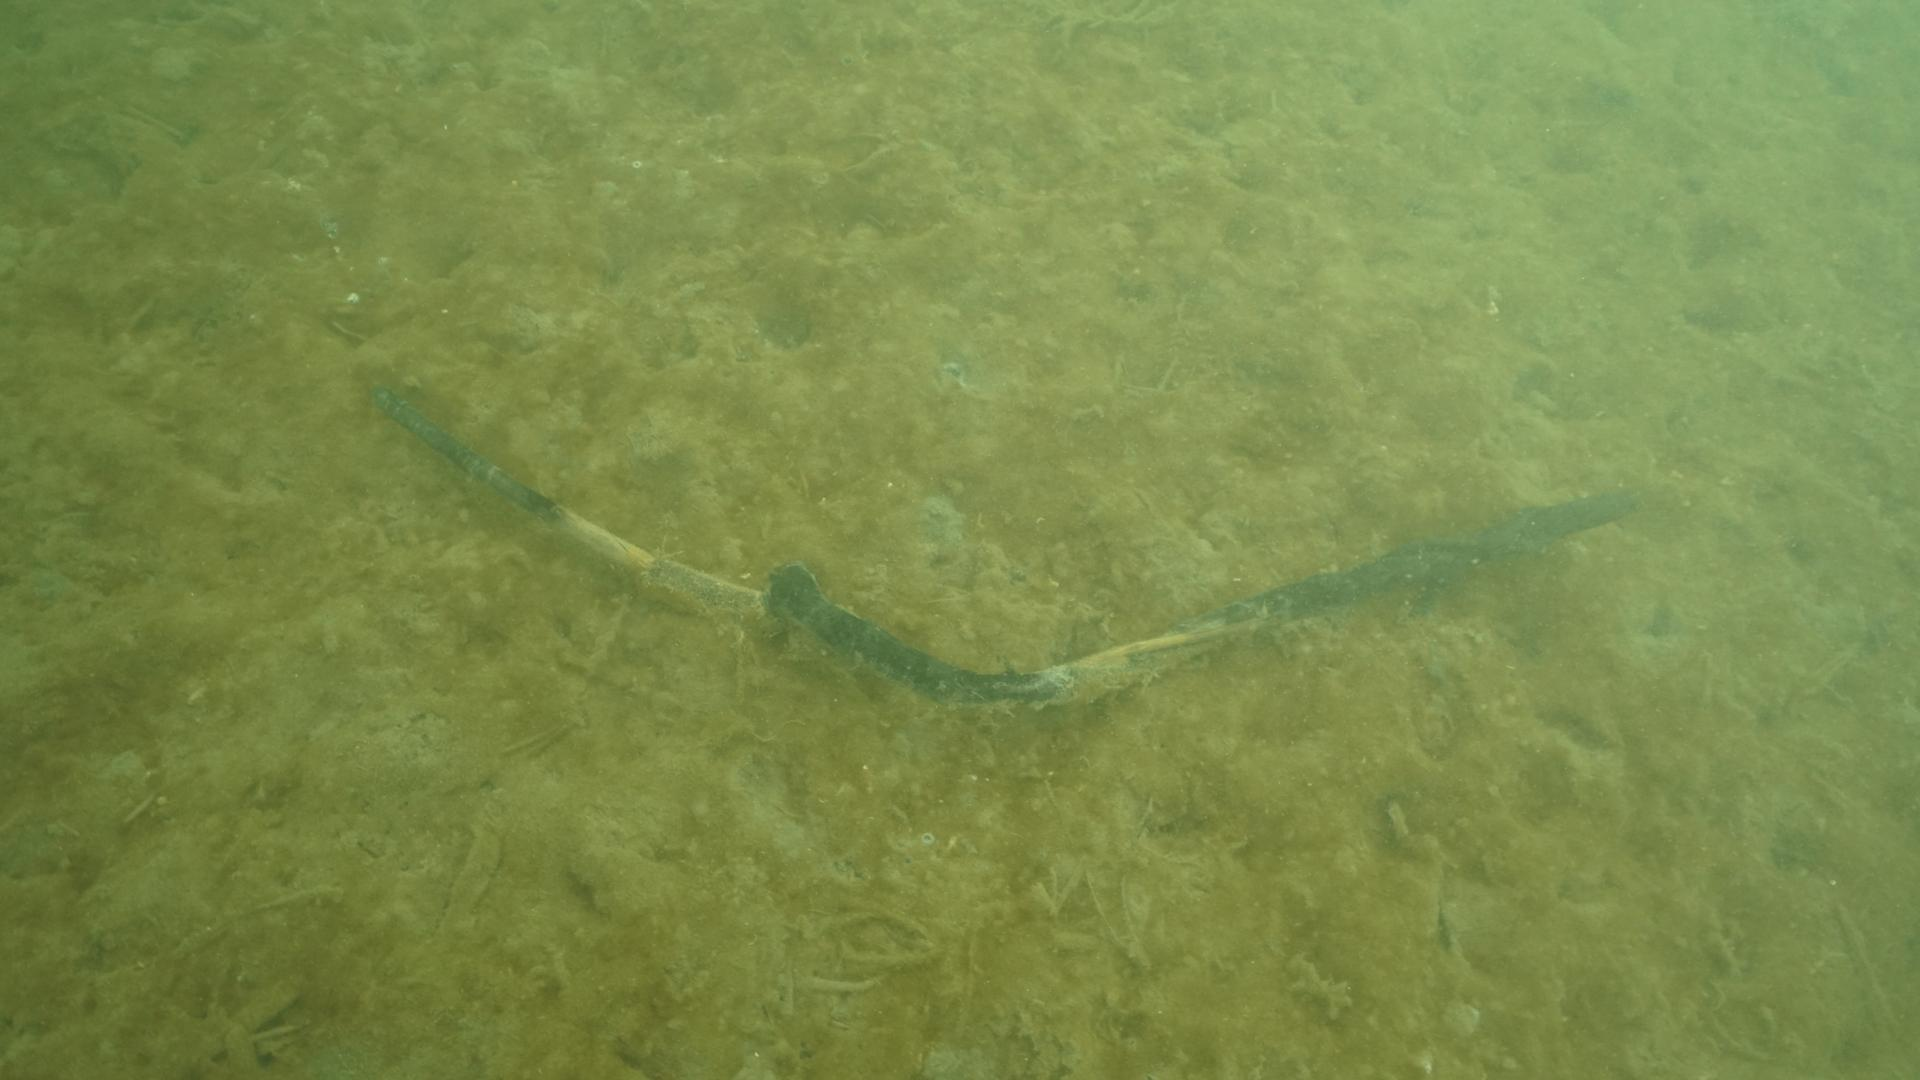wood: (365, 384, 1640, 712)
